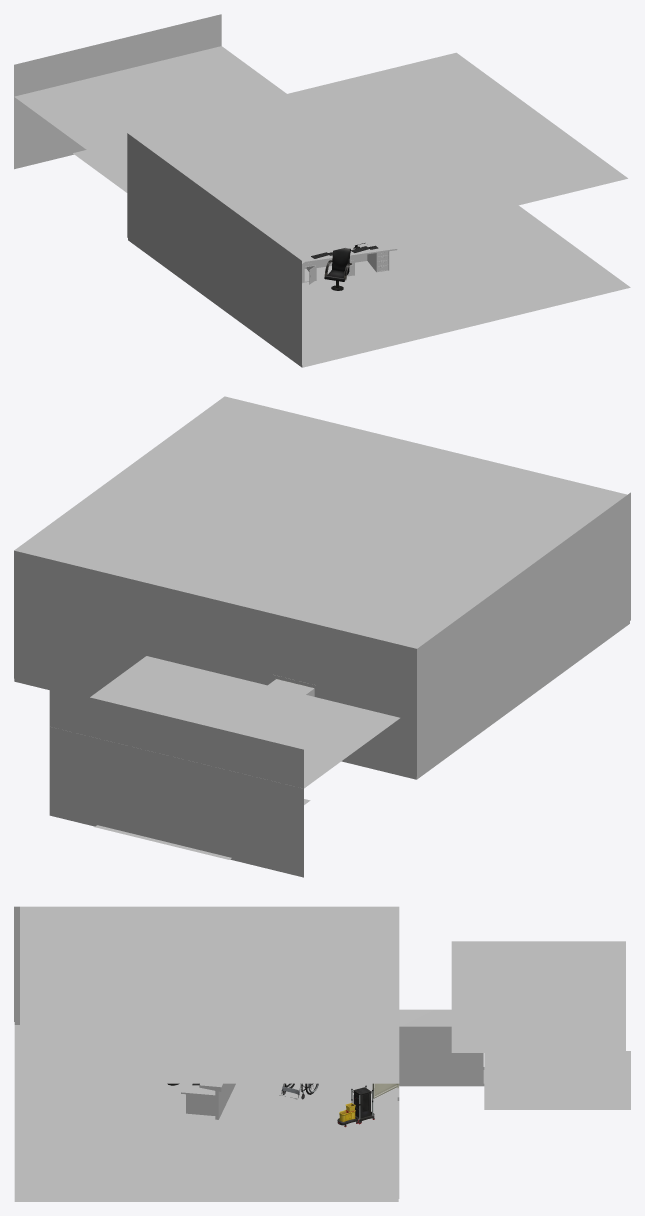
Rendered from YiYuanHuShiZhan_01.FBX.
3 views of the same model, one above another, from view 1: azimuth 30°, elevation 25°; view 2: azimuth 150°, elevation 25°; view 3: azimuth 270°, elevation 25° (orthographic). The views are drawn at different scales.
Visible parts, largest first — view 1: HuShiZhan_qiang_01, HuShiZhan_guitai_01, HuShiZhan_yizi_01; view 2: HuShiZhan_qiang_01; view 3: HuShiZhan_qiang_01, HuShiZhan_guitai_01, HuShiZhan_dalajitong_01.
Part boxes in pixels (bbox=[...]): HuShiZhan_qiang_01: bbox=[14, 14, 630, 367]; HuShiZhan_guitai_01: bbox=[300, 237, 397, 284]; HuShiZhan_yizi_01: bbox=[324, 247, 351, 290]; HuShiZhan_qiang_01: bbox=[14, 396, 630, 877]; HuShiZhan_qiang_01: bbox=[14, 906, 630, 1201]; HuShiZhan_guitai_01: bbox=[181, 1083, 235, 1119]; HuShiZhan_dalajitong_01: bbox=[337, 1085, 374, 1127].
Bounding box in the file's own units: 4803 × 1474 × 6856.
